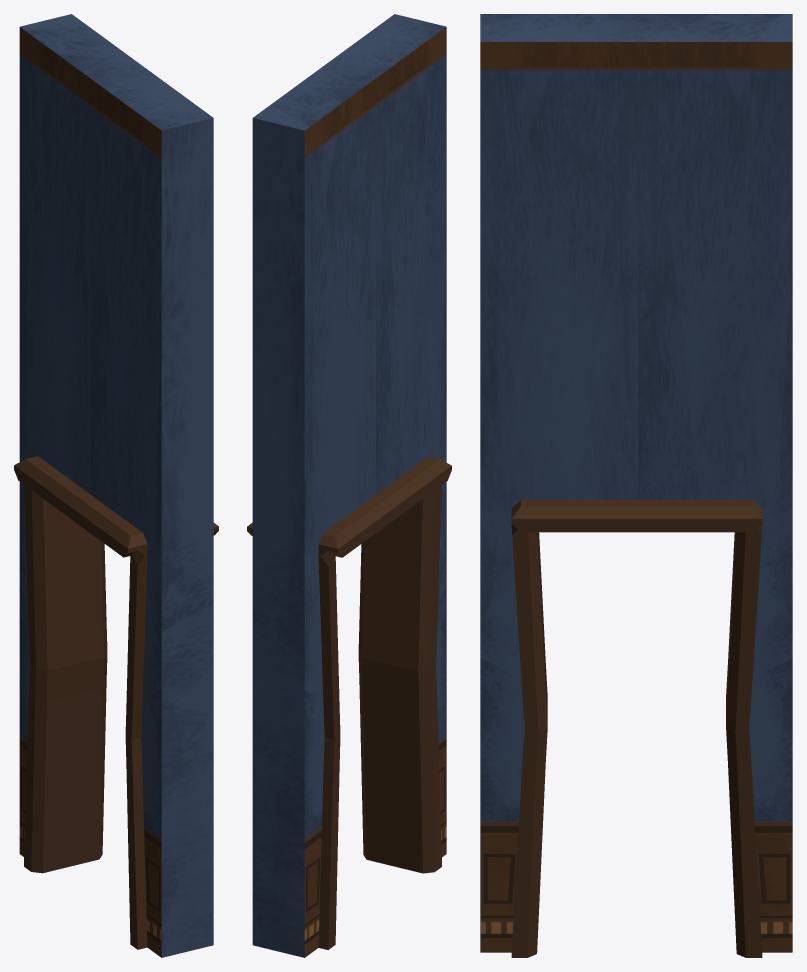
File: Porte 1.fbx
3 renders of one model, left to right at view 1: azimuth 30°, elevation 25°; view 2: azimuth 150°, elevation 25°; view 3: azimuth 270°, elevation 25°, orthographic. The views are drawn at different scales.
Visible parts, largest first — view 1: Cube, Cube.001; view 2: Cube, Cube.001; view 3: Cube, Cube.001.
Boxes of the visible parts, x1=… form: Cube: x1=19, y1=14, x2=213, y2=957; Cube.001: x1=14, y1=456, x2=218, y2=949; Cube: x1=252, y1=14, x2=446, y2=957; Cube.001: x1=247, y1=456, x2=451, y2=949; Cube: x1=480, y1=14, x2=792, y2=952; Cube.001: x1=511, y1=500, x2=762, y2=957.
Size of the model in its own units: 92.63 by 804 by 250.
Materials: 2 (1 with a texture image).
